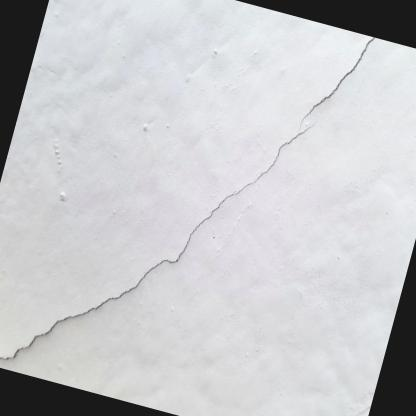crack: (0, 126, 312, 360), (299, 37, 375, 128)
